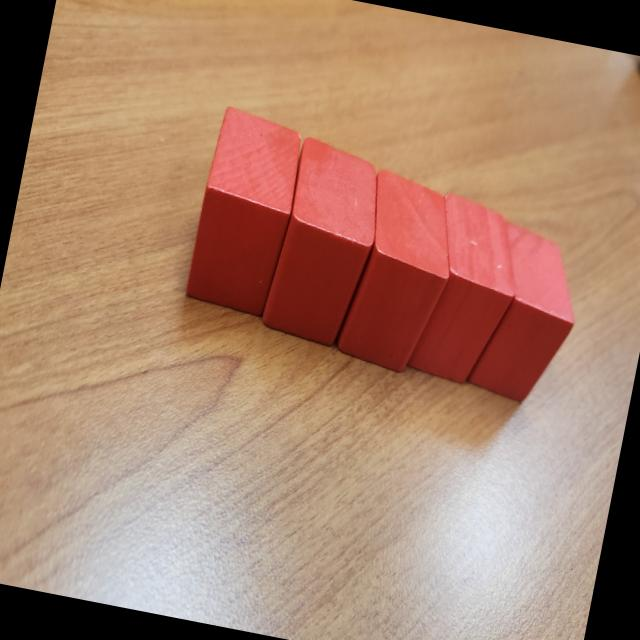red: (332, 164, 468, 381), (260, 132, 392, 352), (184, 104, 310, 320), (404, 190, 532, 390), (462, 220, 590, 411)
